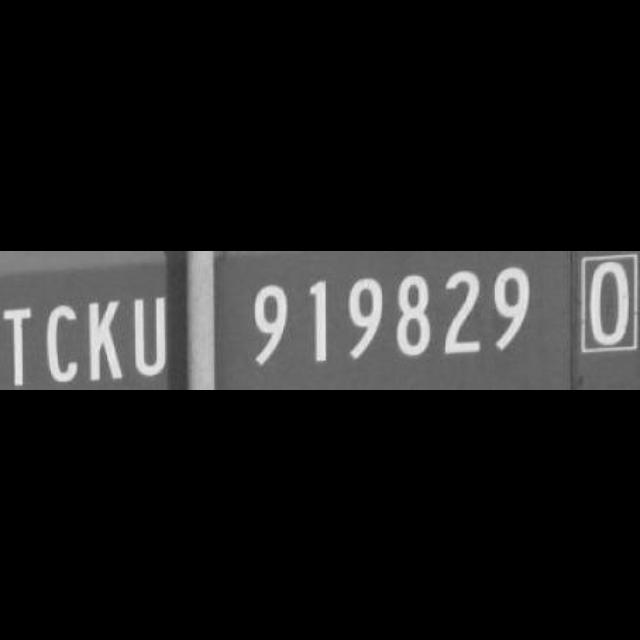0: (578, 250, 640, 360)
1: (302, 273, 338, 372)
2: (440, 264, 484, 362)
8: (394, 268, 434, 366)
9: (485, 258, 537, 362), (245, 280, 292, 372), (344, 272, 388, 368)
c: (40, 298, 82, 386)
k: (83, 292, 129, 386)
t: (0, 299, 42, 389)
u: (128, 290, 174, 380)
